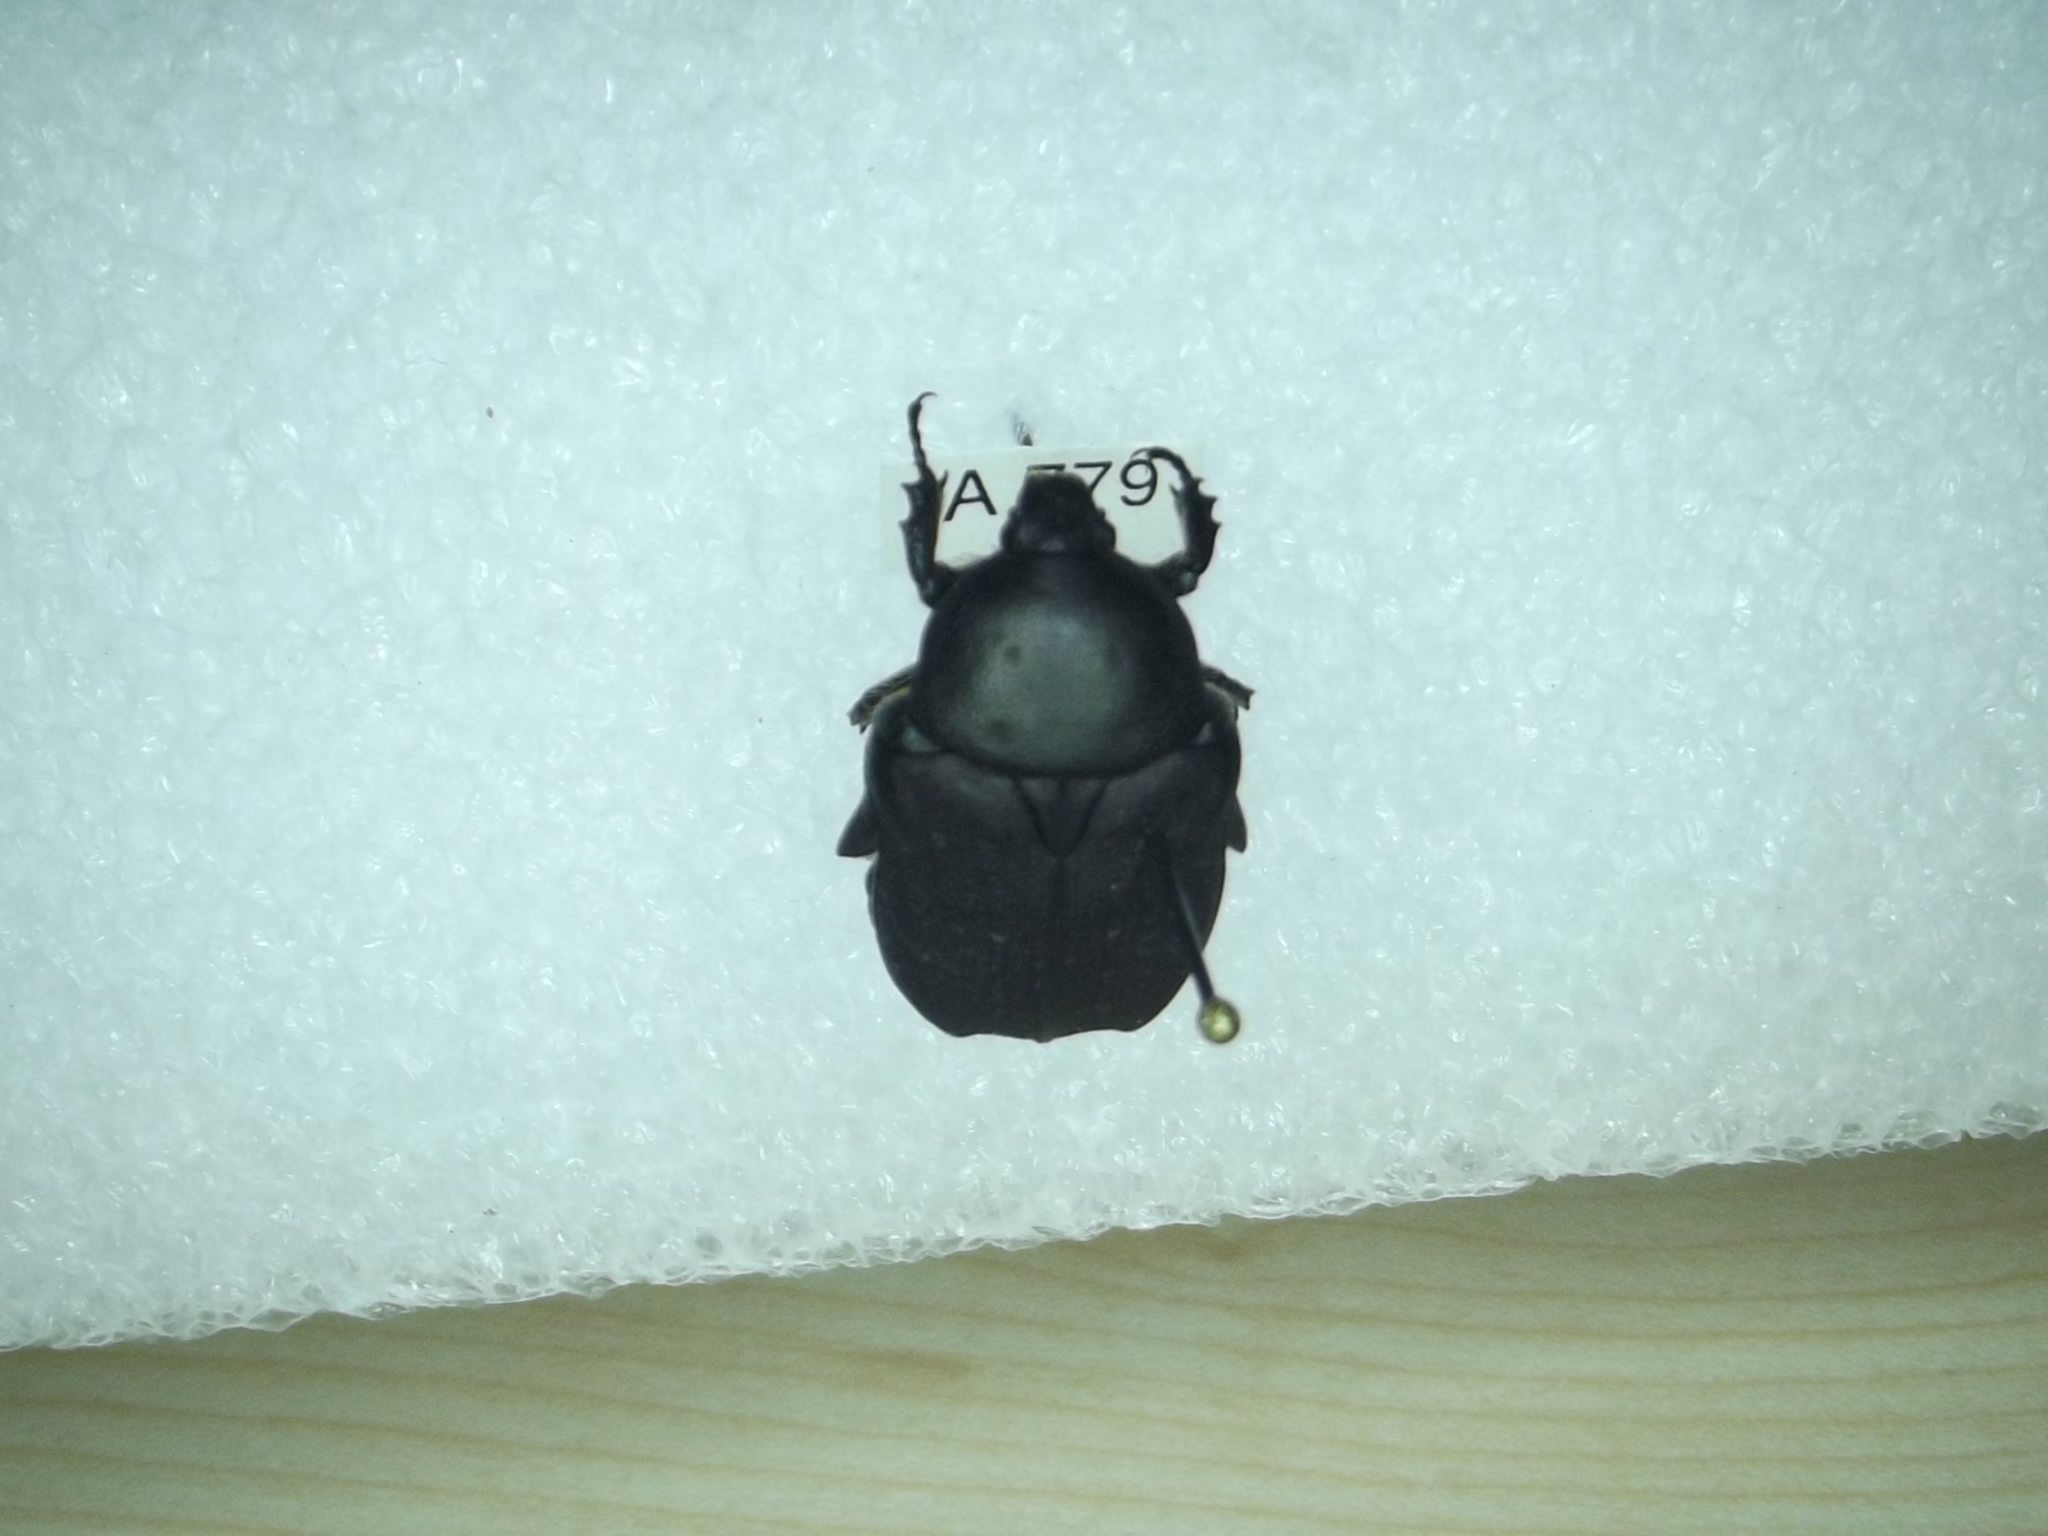Protaetia_asiatica: (797, 374, 1272, 1068)
